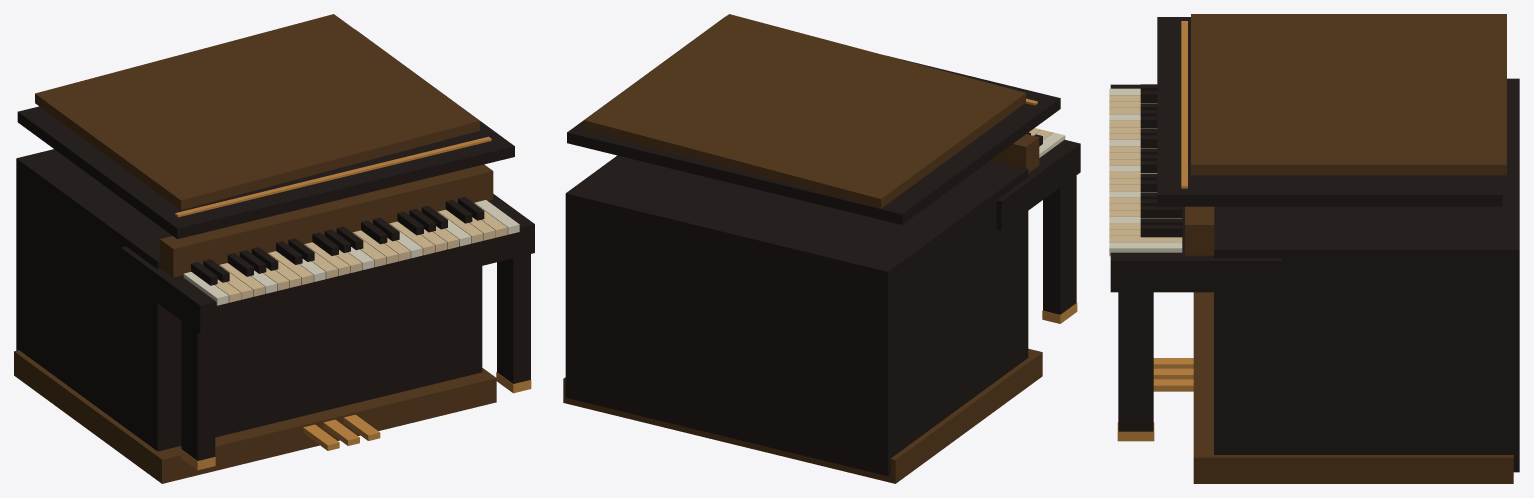
File: mia-piano.glb
The picture shows the model from 3 angles, left to right: view 1: azimuth 30°, elevation 25°; view 2: azimuth 150°, elevation 25°; view 3: azimuth 270°, elevation 25°; orthographic projection. The views are drawn at different scales.
Parts seen in each view (by area): view 1: Body_black, Body_wood, Body_ivory, Body_brass, Body_mattress; view 2: Body_black, Body_wood; view 3: Body_black, Body_wood, Body_ivory, Body_brass, Body_mattress.
Part boxes in pixels (box(x1,y1,x2,y2)): Body_black: box(16, 29, 534, 460); Body_wood: box(14, 14, 496, 483); Body_ivory: box(215, 203, 507, 302); Body_brass: box(175, 136, 531, 470); Body_mattress: box(183, 200, 519, 305); Body_black: box(565, 16, 1080, 476); Body_wood: box(563, 14, 1042, 483); Body_black: box(1110, 17, 1519, 472); Body_wood: box(1185, 14, 1513, 483); Body_ivory: box(1109, 95, 1182, 242); Body_brass: box(1117, 21, 1193, 441); Body_mattress: box(1109, 88, 1182, 256).
Size of the model in its own units: 1.61 by 1.31 by 1.57.
